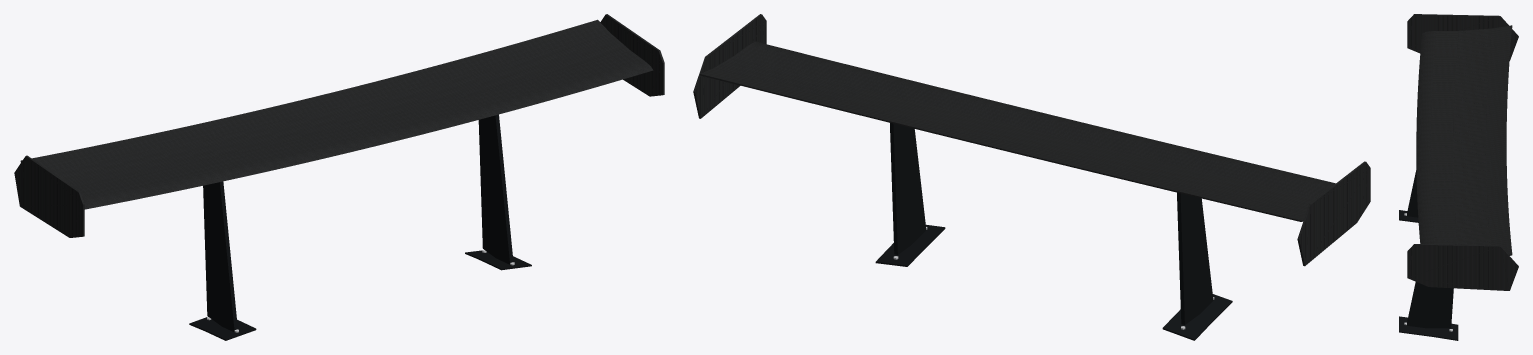
Rendered from RA02_gt_wing.glb.
3 views of the same model, side by side, from view 1: azimuth 30°, elevation 25°; view 2: azimuth 150°, elevation 25°; view 3: azimuth 270°, elevation 25° (orthographic). The views are drawn at different scales.
Parts seen in each view (by area): view 1: MOD_ND_RA02_airfoil, MOD_ND_RA02_upright_neg1, MOD_ND_RA02_upright_1, MOD_ND_RA02_endplate_neg1, MOD_ND_RA02_endplate_1, MOD_ND_RA02_foot_neg1, MOD_ND_RA02_foot_1; view 2: MOD_ND_RA02_airfoil, MOD_ND_RA02_endplate_neg1, MOD_ND_RA02_upright_neg1, MOD_ND_RA02_upright_1, MOD_ND_RA02_endplate_1, MOD_ND_RA02_foot_neg1, MOD_ND_RA02_foot_1; view 3: MOD_ND_RA02_airfoil, MOD_ND_RA02_endplate_1, MOD_ND_RA02_endplate_neg1, MOD_ND_RA02_upright_1, MOD_ND_RA02_foot_1, MOD_ND_RA02_upright_neg1, MOD_ND_RA02_foot_neg1.
Boxes of the visible parts, x1=… form: MOD_ND_RA02_airfoil: x1=20, y1=19, x2=653, y2=209; MOD_ND_RA02_upright_neg1: x1=203, y1=181, x2=237, y2=332; MOD_ND_RA02_upright_1: x1=478, y1=114, x2=513, y2=264; MOD_ND_RA02_endplate_neg1: x1=14, y1=155, x2=84, y2=237; MOD_ND_RA02_endplate_1: x1=600, y1=14, x2=664, y2=96; MOD_ND_RA02_foot_neg1: x1=189, y1=316, x2=256, y2=340; MOD_ND_RA02_foot_1: x1=465, y1=250, x2=531, y2=270; MOD_ND_RA02_airfoil: x1=699, y1=41, x2=1335, y2=221; MOD_ND_RA02_endplate_neg1: x1=1297, y1=161, x2=1370, y2=266; MOD_ND_RA02_upright_neg1: x1=1177, y1=192, x2=1213, y2=324; MOD_ND_RA02_upright_1: x1=890, y1=123, x2=926, y2=254; MOD_ND_RA02_endplate_1: x1=693, y1=14, x2=766, y2=118; MOD_ND_RA02_foot_neg1: x1=1162, y1=294, x2=1232, y2=340; MOD_ND_RA02_foot_1: x1=875, y1=224, x2=945, y2=266; MOD_ND_RA02_airfoil: x1=1416, y1=25, x2=1512, y2=255; MOD_ND_RA02_endplate_1: x1=1407, y1=244, x2=1518, y2=290; MOD_ND_RA02_endplate_neg1: x1=1407, y1=14, x2=1518, y2=60; MOD_ND_RA02_upright_1: x1=1406, y1=282, x2=1453, y2=328; MOD_ND_RA02_foot_1: x1=1399, y1=316, x2=1458, y2=340; MOD_ND_RA02_upright_neg1: x1=1407, y1=170, x2=1418, y2=217; MOD_ND_RA02_foot_neg1: x1=1399, y1=210, x2=1418, y2=222.
Bounding box in the file's own units: 1.33 × 0.4059 × 0.292.
Materials: 3 (1 with a texture image).
